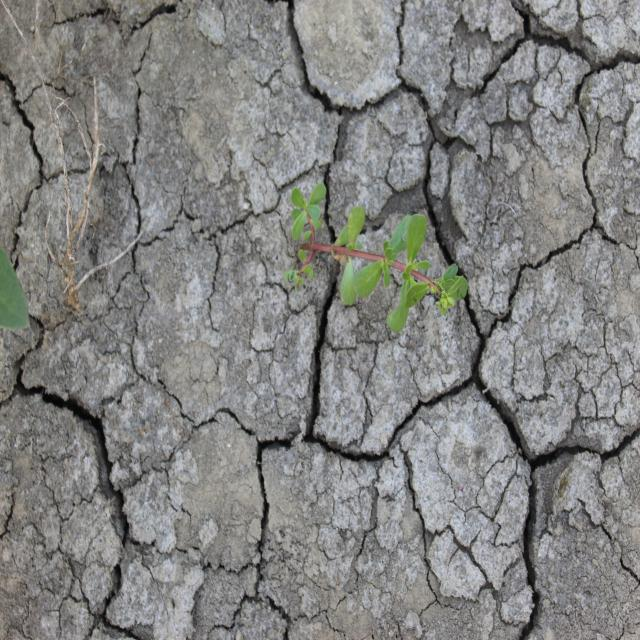Purslane: (282, 182, 469, 334)
